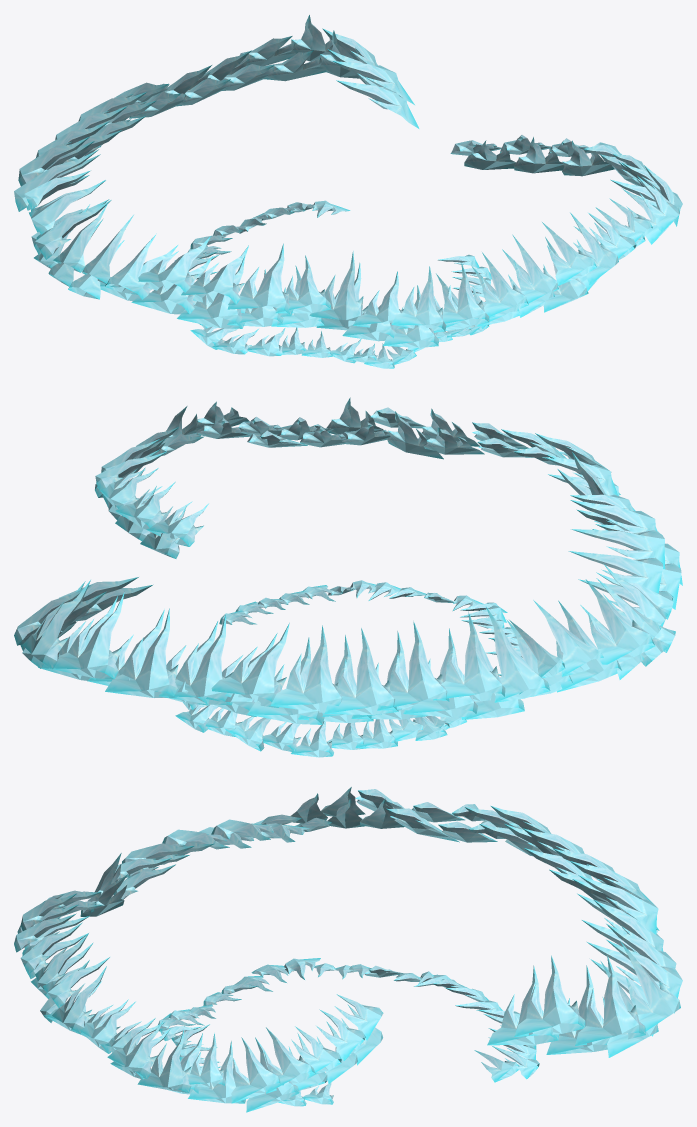
Rendered from huanbing.fbx.
3 views of the same model, one above another, from view 1: azimuth 30°, elevation 25°; view 2: azimuth 150°, elevation 25°; view 3: azimuth 270°, elevation 25° (orthographic). The views are drawn at different scales.
Visible parts, largest first — view 1: polySurface3, polySurface1, polySurface2; view 2: polySurface3, polySurface1, polySurface2; view 3: polySurface3, polySurface1, polySurface2.
Part boxes in pixels (x1,y1,x2,y2): polySurface3: (14,15,682,331); polySurface1: (16,30,674,347); polySurface2: (175,200,491,368); polySurface3: (14,397,673,714); polySurface1: (20,411,682,724); polySurface2: (175,580,522,757); polySurface3: (14,787,682,1103); polySurface1: (17,798,659,1112); polySurface2: (158,958,539,1106).
Bounding box in the file's own units: 20.98 × 5.79 × 21.08.
